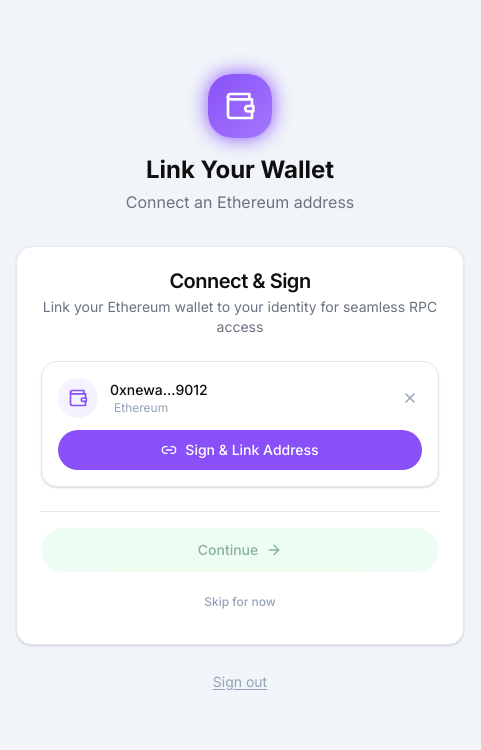
Test: LinkWalletPage › Link Wallet Flow › should show error when verification fails
Click the button "Sign & Link Address": {"x": 240, "y": 450} 58,430 -> 422,470
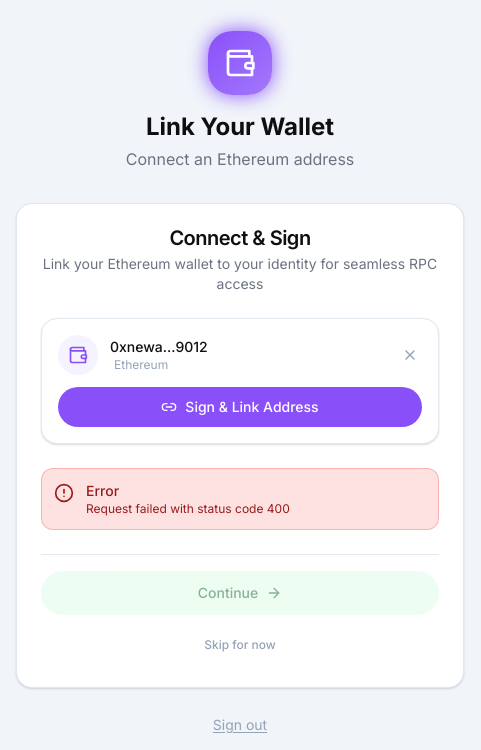
expect the text "Error" is shown: met, box 86,482 -> 119,498
